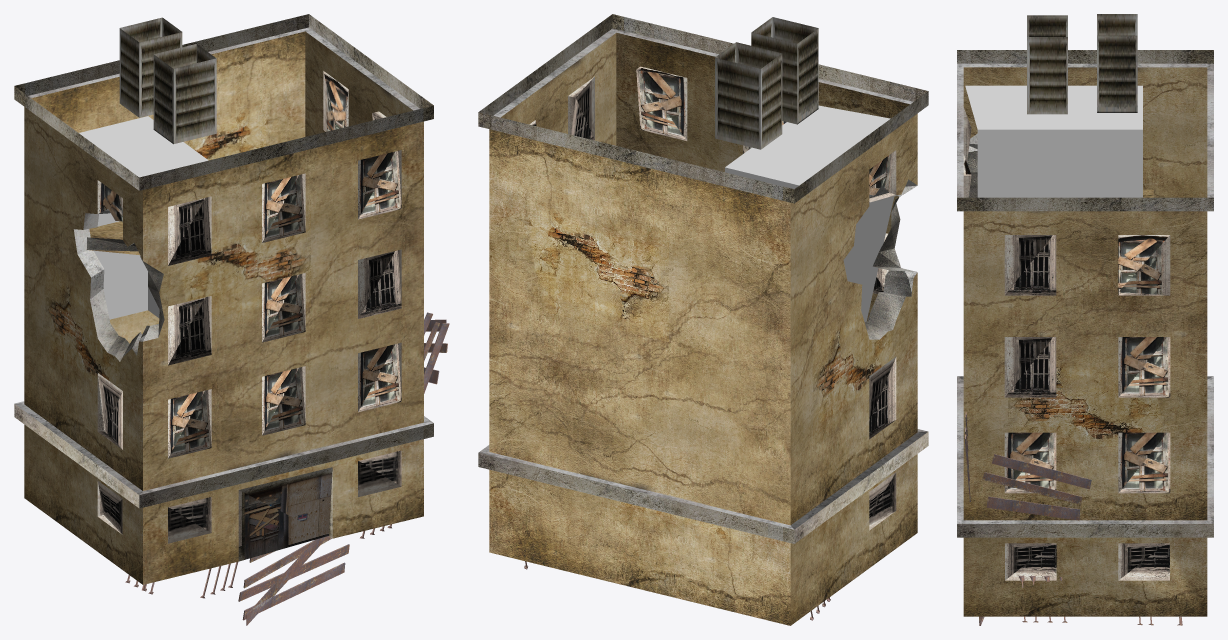
The model's file is Big_house3_LOD1.FBX.
3 renders of one model, left to right at view 1: azimuth 30°, elevation 25°; view 2: azimuth 150°, elevation 25°; view 3: azimuth 270°, elevation 25°, orthographic. The views are drawn at different scales.
Visible parts, largest first — view 1: Box003, black001, planks001; view 2: Box003, black001; view 3: Box003, black001, planks001.
Boxes of the visible parts, left/top/right/bottom form: Box003: left=14, top=14, right=433, bottom=584; black001: left=79, top=116, right=208, bottom=319; planks001: left=125, top=312, right=449, bottom=625; Box003: left=478, top=14, right=928, bottom=625; black001: left=725, top=105, right=894, bottom=321; Box003: left=957, top=14, right=1213, bottom=616; black001: left=965, top=85, right=1142, bottom=197; planks001: left=965, top=412, right=1182, bottom=625.
Size of the model in its own units: 99.14 by 162 by 66.
Materials: 2 (2 with a texture image).
